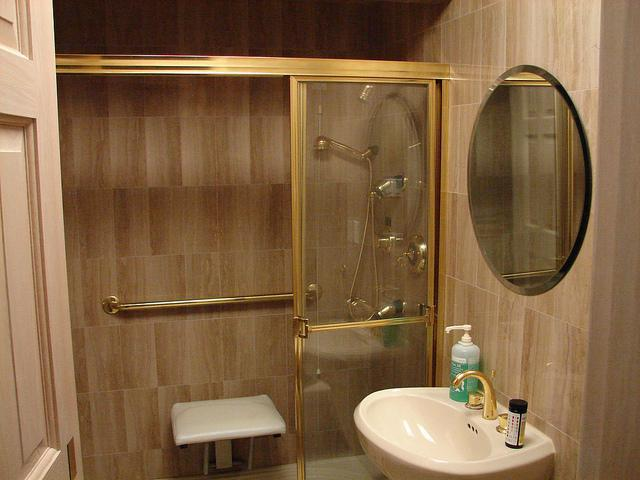Ducha: (0, 42, 443, 479)
Lavamanos: (353, 346, 576, 479)
